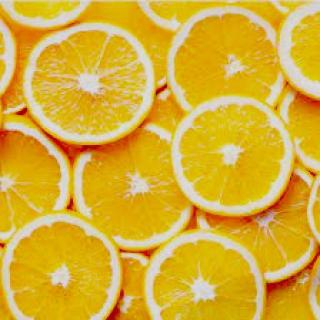orange: (167, 90, 294, 228), (17, 27, 158, 151)
